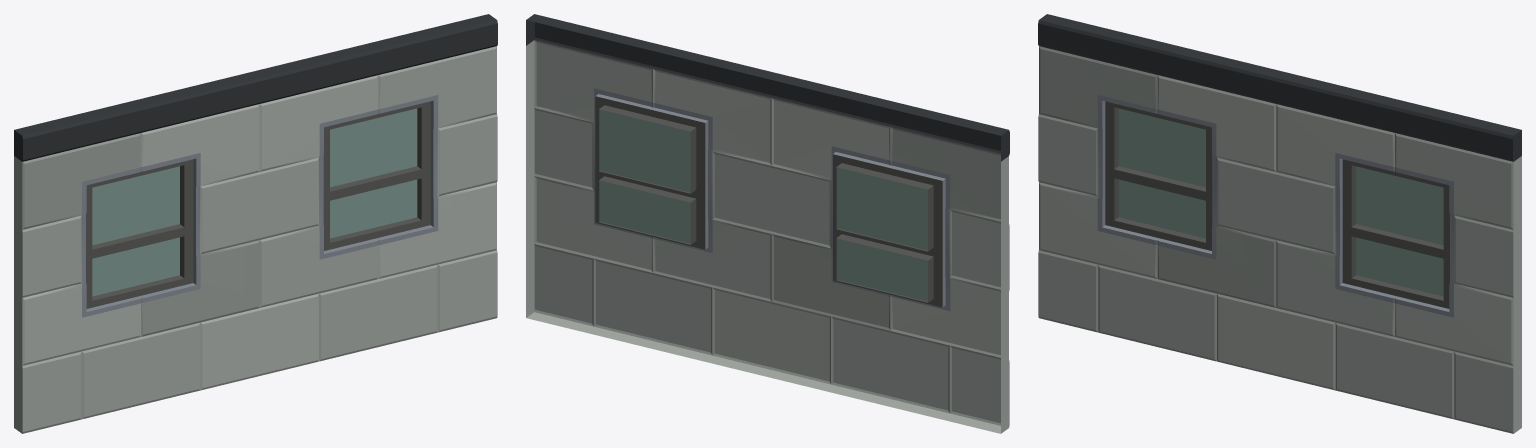
File: Wall_Interior_Window_01.glb
The picture shows the model from 3 angles, left to right: view 1: azimuth 30°, elevation 25°; view 2: azimuth 150°, elevation 25°; view 3: azimuth 330°, elevation 25°; orthographic projection.
Visible parts, largest first — view 1: SM_Env_Wall_Interior_Window_01, SM_Env_Wall_Interior_Window_Glass_01; view 2: SM_Env_Wall_Interior_Window_01, SM_Env_Wall_Interior_Window_Glass_01; view 3: SM_Env_Wall_Interior_Window_01, SM_Env_Wall_Interior_Window_Glass_01.
Boxes of the visible parts, x1,y1,x2,y2 form: SM_Env_Wall_Interior_Window_01: (14, 14, 497, 433); SM_Env_Wall_Interior_Window_Glass_01: (92, 108, 417, 296); SM_Env_Wall_Interior_Window_01: (526, 14, 1009, 433); SM_Env_Wall_Interior_Window_Glass_01: (600, 109, 927, 301); SM_Env_Wall_Interior_Window_01: (1038, 14, 1521, 433); SM_Env_Wall_Interior_Window_Glass_01: (1118, 108, 1443, 296).
Bounding box in the file's own units: 5 × 3 × 0.1636.
Materials: 2 (1 with a texture image).
